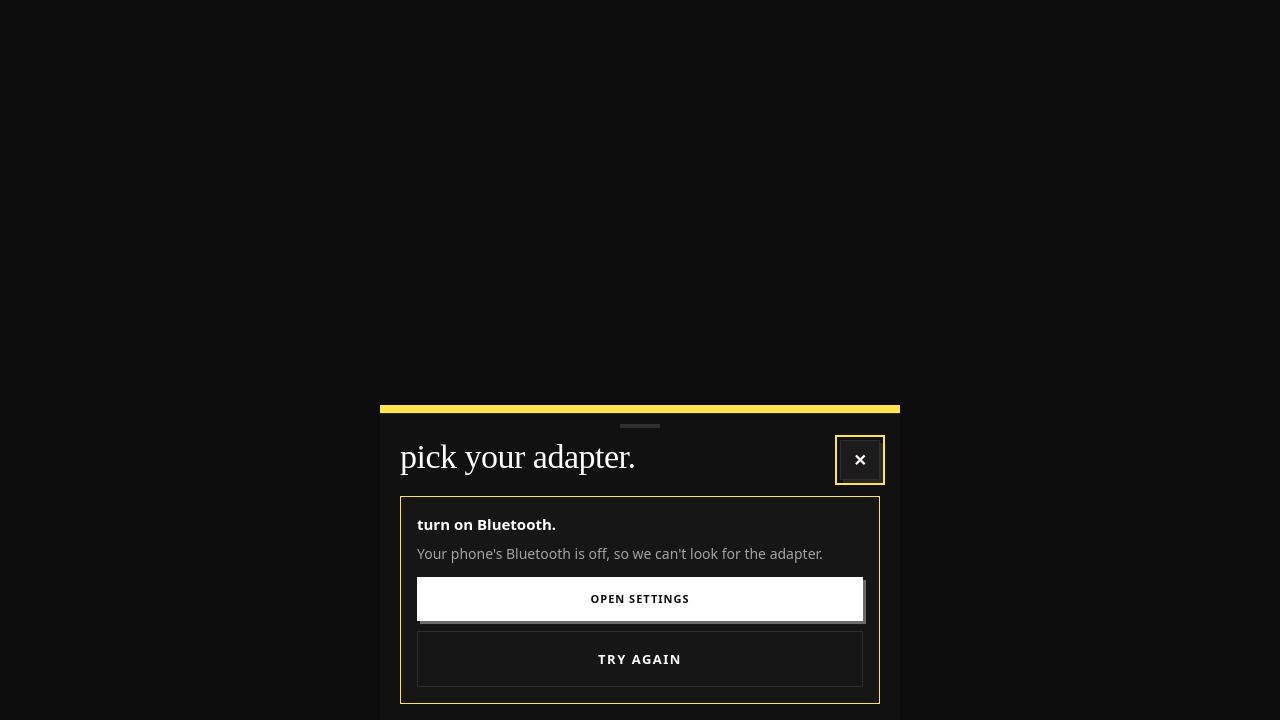
AdapterSheet › bluetooth off: "turn on Bluetooth" with OPEN SETTINGS, and TRY AGAIN scans again
The width and height of the screenshot is (1280, 720).
Expected: the heading "turn on Bluetooth." is shown, [417,514,556,534]
Click the button "Open settings": (640, 599) [417,577,863,621]
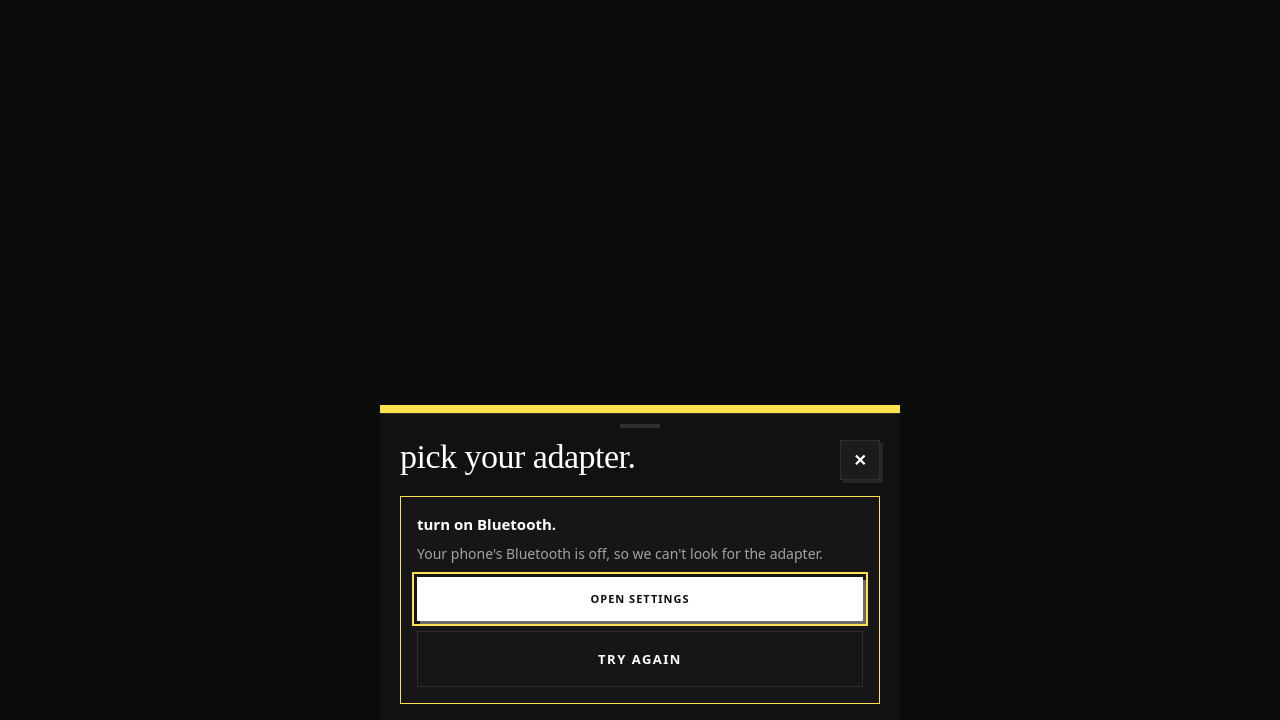
Click the button "Try again": (640, 659) [417,631,863,687]
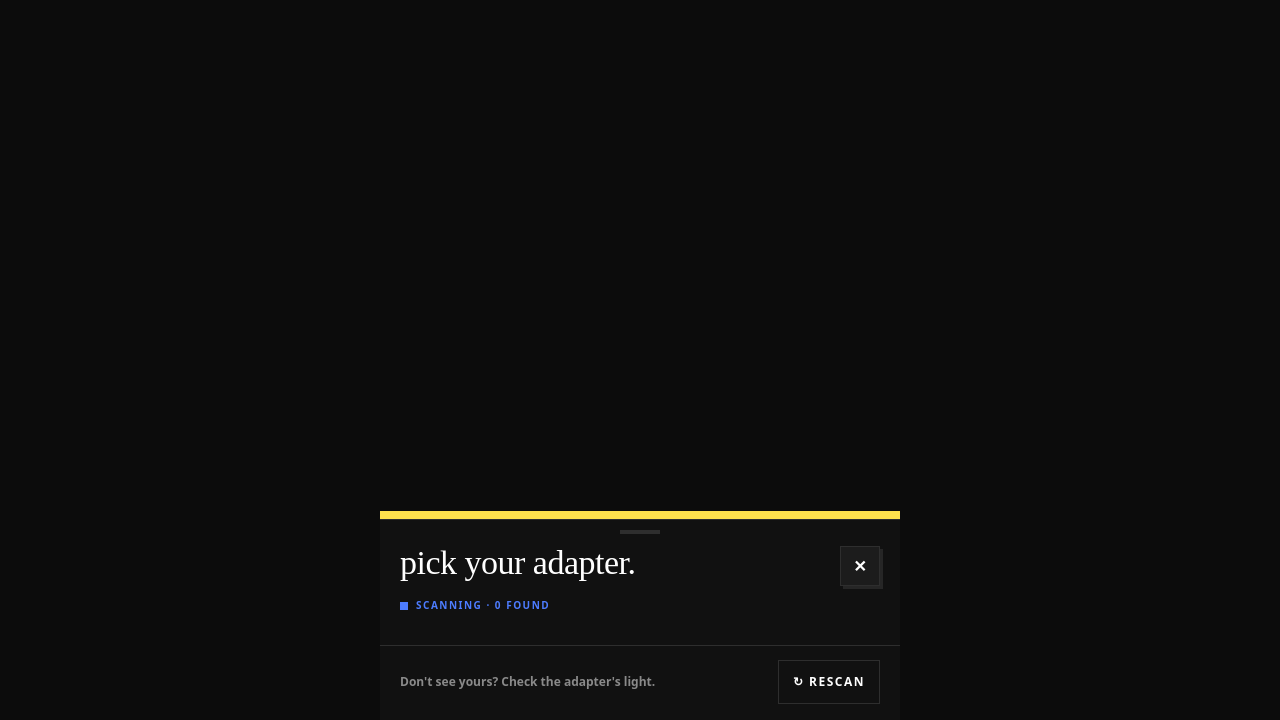
Expected: the message reads "Scanning · 0 found", [416,598,550,612]
